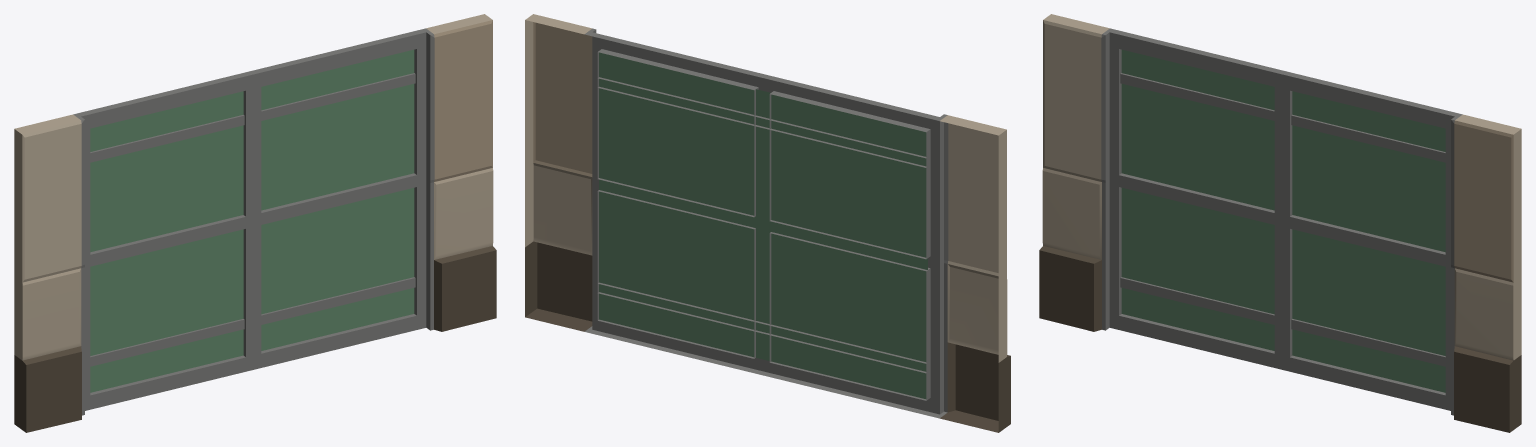
Rendered from Wall_Exterior_Window_Ground_02.glb.
The picture shows the model from 3 angles, left to right: view 1: azimuth 30°, elevation 25°; view 2: azimuth 150°, elevation 25°; view 3: azimuth 330°, elevation 25°; orthographic projection.
Parts seen in each view (by area): view 1: SM_Env_Wall_Exterior_Window_Ground_02.001, SM_Env_Wall_Exterior_Window_Ground_Glass_02.001; view 2: SM_Env_Wall_Exterior_Window_Ground_Glass_02.001, SM_Env_Wall_Exterior_Window_Ground_02.001; view 3: SM_Env_Wall_Exterior_Window_Ground_02.001, SM_Env_Wall_Exterior_Window_Ground_Glass_02.001.
Part boxes in pixels (<box>): SM_Env_Wall_Exterior_Window_Ground_02.001: <box>14,14,496,432</box>; SM_Env_Wall_Exterior_Window_Ground_Glass_02.001: <box>90,49,414,392</box>; SM_Env_Wall_Exterior_Window_Ground_Glass_02.001: <box>599,52,927,398</box>; SM_Env_Wall_Exterior_Window_Ground_02.001: <box>525,14,1010,432</box>; SM_Env_Wall_Exterior_Window_Ground_02.001: <box>1039,14,1521,432</box>; SM_Env_Wall_Exterior_Window_Ground_Glass_02.001: <box>1121,49,1445,392</box>.
Bounding box in the file's own units: 5 × 3 × 0.2284.
Materials: 1 (1 with a texture image).
